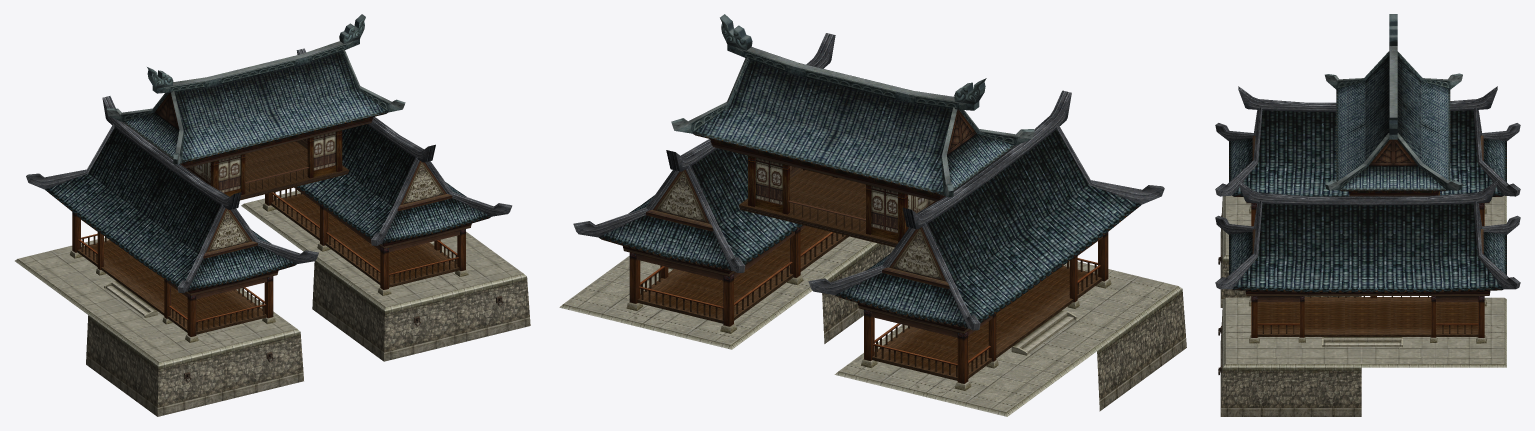
Rendered from milgyo_building02.glb.
3 renders of one model, left to right at view 1: azimuth 30°, elevation 25°; view 2: azimuth 150°, elevation 25°; view 3: azimuth 270°, elevation 25°, orthographic. The views are drawn at different scales.
Parts seen in each view (by area): view 1: milgyo_building02; view 2: milgyo_building02; view 3: milgyo_building02.
Part boxes in pixels (<box>): milgyo_building02: <box>15,14,530,416</box>; milgyo_building02: <box>559,14,1186,416</box>; milgyo_building02: <box>1215,14,1520,416</box>.
Bounding box in the file's own units: 47.4 × 32.22 × 34.12.
Materials: 4 (4 with a texture image).
